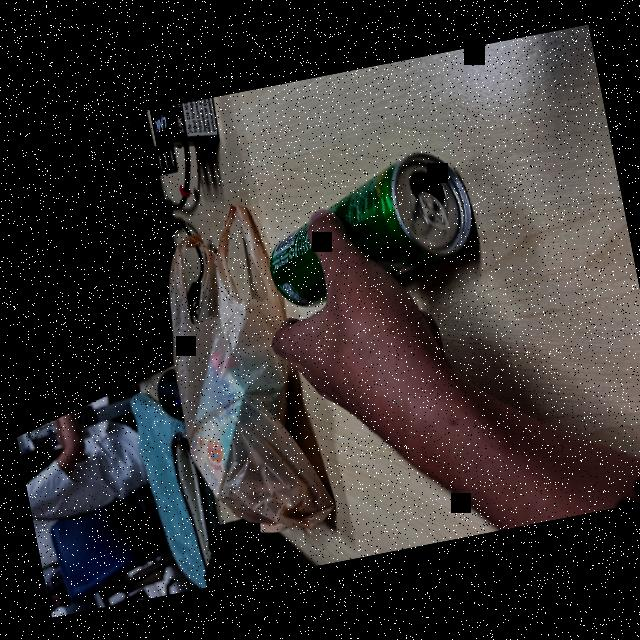can: (239, 138, 492, 318)
